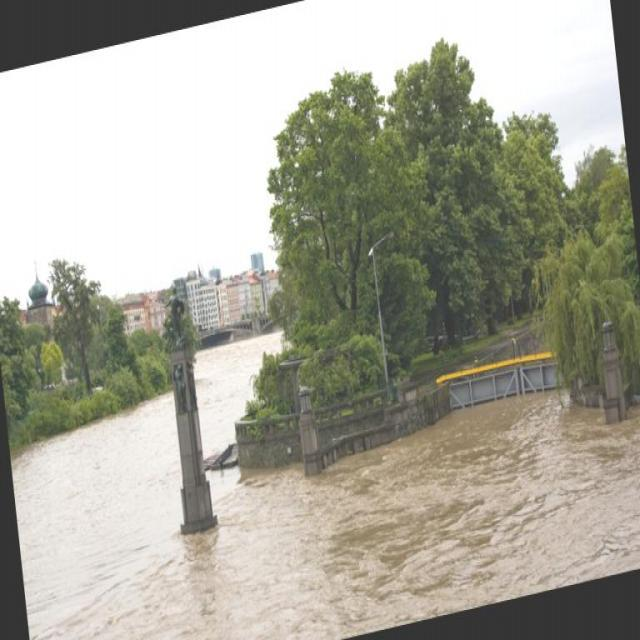flood: (3, 245, 639, 639)
